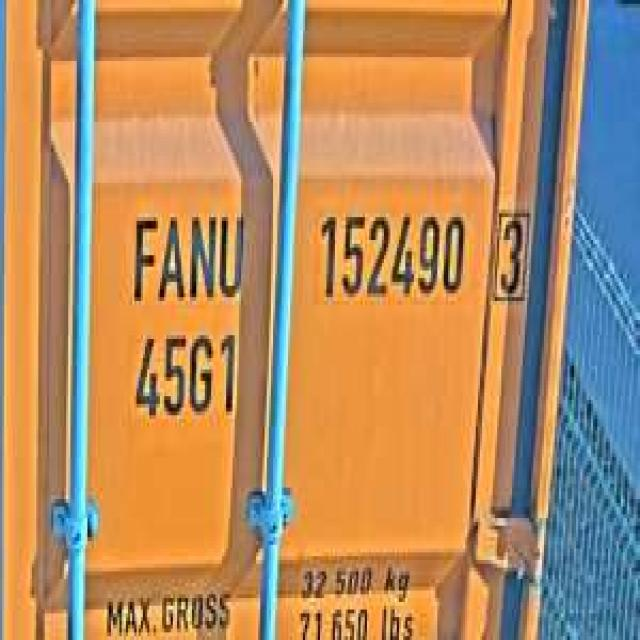dv: (488, 194, 534, 309)
owner: (124, 198, 245, 309)
serial: (312, 198, 467, 305)
size: (126, 324, 241, 423)
